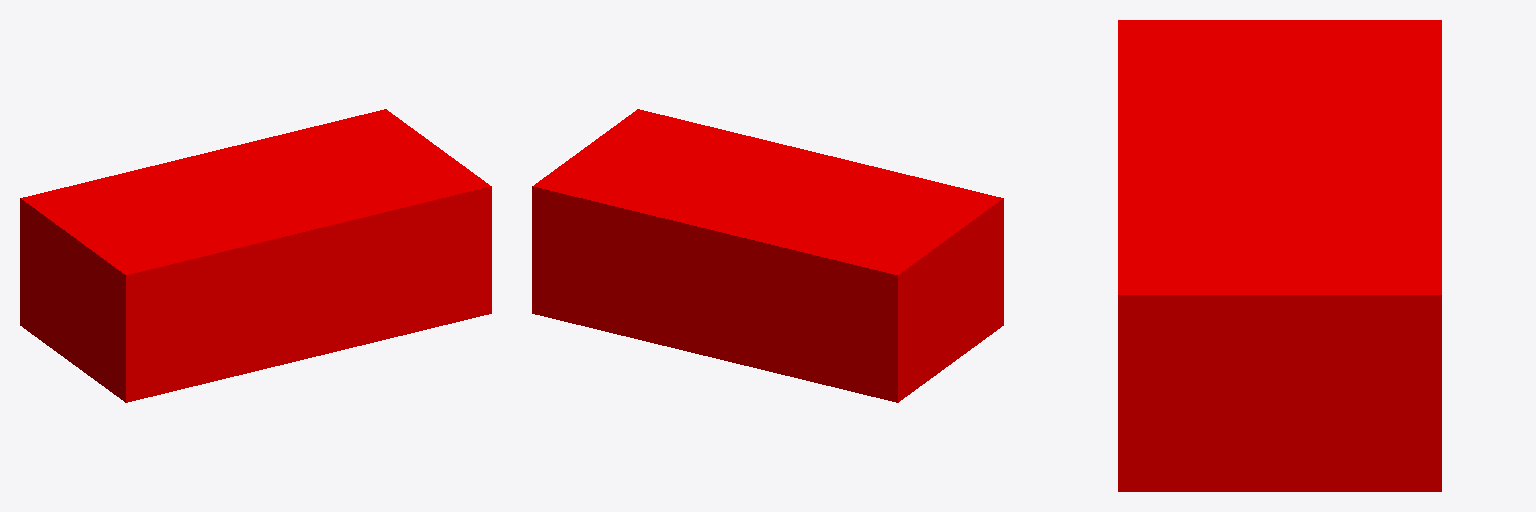
robot.urdf — simple_rover:
<?xml version="1.0"?>
<robot name="simple_rover">

  <!--─── materials ─────────────────────────────────────────────────────-->
  <material name="red">
    <color rgba="1.0 0.0 0.0 0.8"/>
  </material>
  <material name="blue">
    <color rgba="0.0 0.0 1.0 0.9"/>
  </material>

  <!--─── this is the frame the UWB/localization node publishes ────-->
  <link name="tag_link"/>

  <!--
    move from tag_link → base_link by the *negative* of your sensor offset.
    If your sensor sits at (x, y, z) in the robot‐center,
    then base_link must be shifted by (-x, -y, -z).
  -->
  <joint name="tag_to_base" type="fixed">
    <parent link="tag_link"/>
    <child  link="base_link"/>
    <origin xyz="-0.45 -0.35 -0.5" rpy="0 0 0"/>
  </joint>

  <!--─── your main chassis sits on z=0 with half‑height 0.25 ────-->
  <link name="base_link">
    <visual>
      <geometry>
        <!-- 1.5 m long × 0.75 m wide × 0.5 m tall -->
        <box size="1.5 0.75 0.5"/>
      </geometry>
      <!-- lift by half the height so bottom is at z=0 -->
      <origin xyz="0 0 0.25" rpy="0 0 0"/>
      <material name="red"/>
    </visual>
  </link>

  <!--─── camera is offset 0.7 m forward of base_link ────-->
  <link name="camera_link">
    <visual>
      <geometry>
        <!-- small box as placeholder -->
        <box size="0.03 0.22 0.19"/>
      </geometry>
      <!-- this centers the camera visual on its own link frame -->
      <origin xyz="0 0 0.17" rpy="0 0 0"/>
      <material name="blue"/>
    </visual>
  </link>

  <joint name="camera_joint" type="fixed">
    <parent link="base_link"/>
    <child  link="camera_link"/>
    <origin xyz="0.4 0 0.2" rpy="0 0 0"/>
  </joint>

</robot>

--- Render facts (derived) ---
Views: 3 orthographic renders of the robot side by side, from view 1: azimuth 30°, elevation 25°; view 2: azimuth 150°, elevation 25°; view 3: azimuth 270°, elevation 25°.
Robot: simple_rover — 3 links, 2 joints (2 fixed); root link tag_link; default pose: all joints at 0.
Links seen in each view (by area): view 1: base_link; view 2: base_link; view 3: base_link.
Link boxes in pixels (bbox=[...]): base_link: bbox=[20, 109, 491, 402]; base_link: bbox=[532, 109, 1003, 402]; base_link: bbox=[1118, 20, 1441, 491].
Size in the robot's own frame: 1.5 by 0.75 by 0.5 metres.
Geometry: primitives only (box / cylinder / sphere), no mesh files.